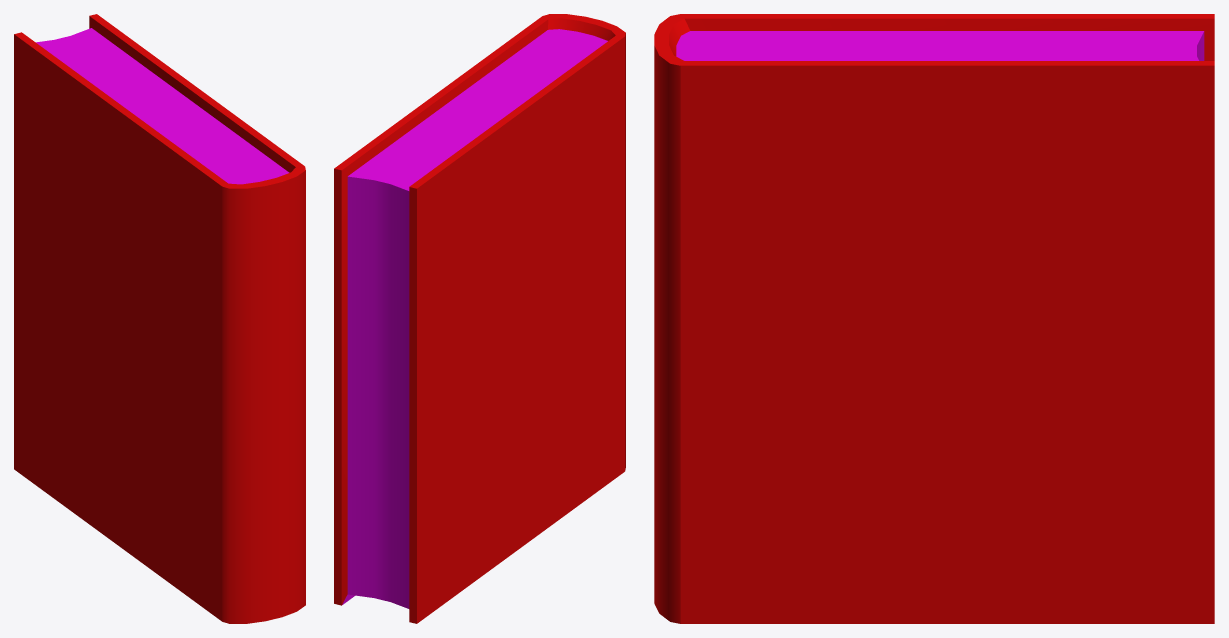
The model's file is SM_Book5.fbx.
3 renders of one model, left to right at view 1: azimuth 30°, elevation 25°; view 2: azimuth 150°, elevation 25°; view 3: azimuth 270°, elevation 25°, orthographic. The views are drawn at different scales.
Visible parts, largest first — view 1: SM_Book5; view 2: SM_Book5; view 3: SM_Book5.
Part boxes in pixels (x1,y1,x2,y2): SM_Book5: [14, 14, 305, 623]; SM_Book5: [334, 14, 625, 623]; SM_Book5: [654, 14, 1214, 623].
Bounding box in the file's own units: 6.07 × 30.49 × 27.75.
